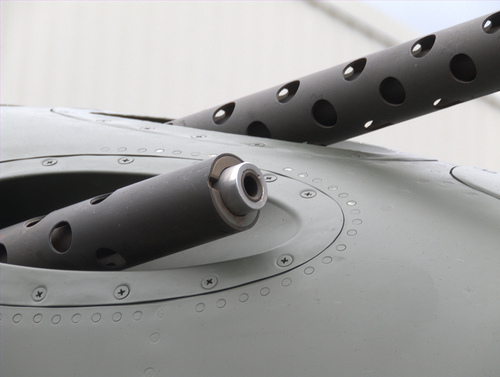rifle: (164, 23, 495, 145), (23, 153, 275, 274)
